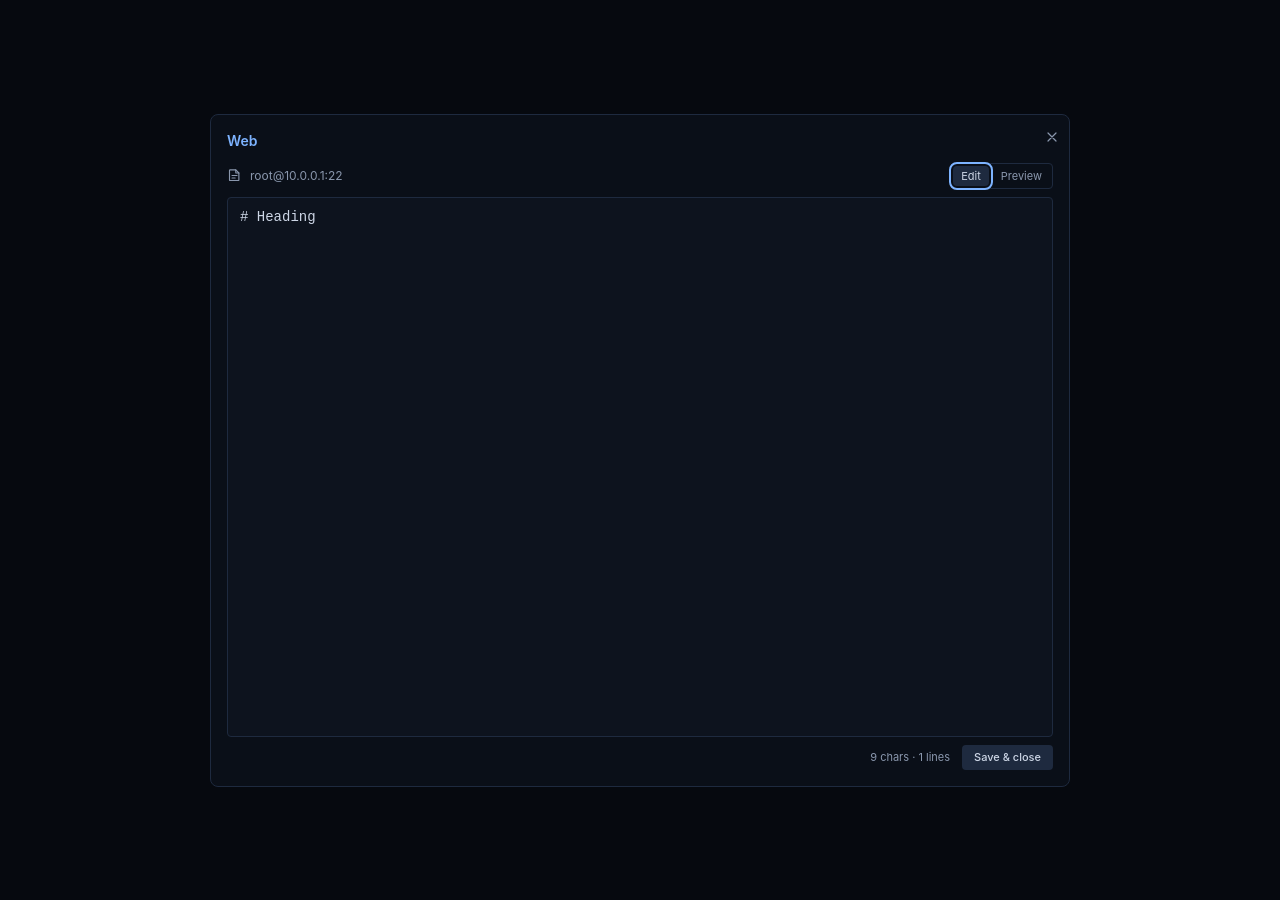
NotesModal › renders a Markdown preview when toggled
Click the button with test id "notes-mode-preview" at (1021, 176), box [993, 166, 1050, 186]
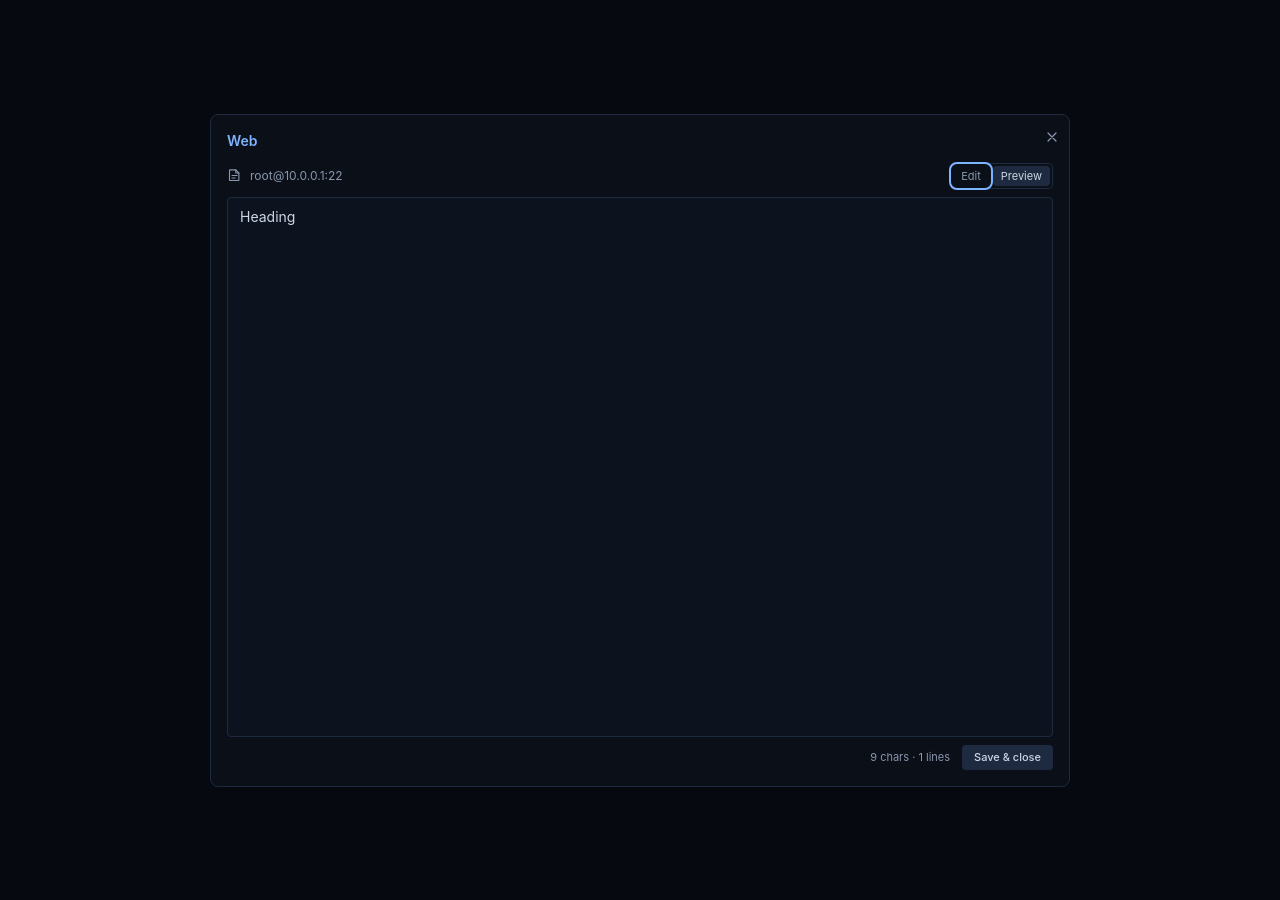
Now the element with test id "notes-preview" reads "Heading", box [240, 208, 295, 225]
